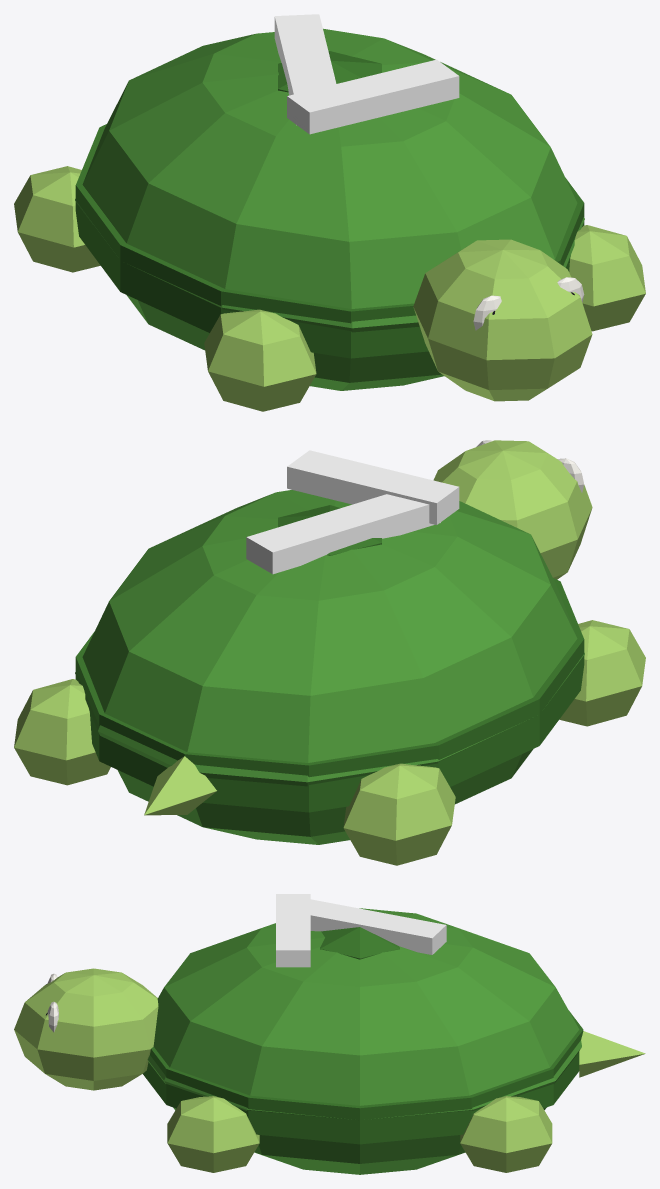
File: turtle_racer.glb
3 renders of one model, top to bottom at view 1: azimuth 30°, elevation 25°; view 2: azimuth 150°, elevation 25°; view 3: azimuth 270°, elevation 25°, orthographic. The views are drawn at different scales.
Parts seen in each view (by area): view 1: shell_turtle_shell, head_turtle_skin, legs_turtle_skin, shell_turtle_plate, number_turtle_paint, face_white; view 2: shell_turtle_shell, legs_turtle_skin, shell_turtle_plate, number_turtle_paint, head_turtle_skin, tail_turtle_skin; view 3: shell_turtle_shell, shell_turtle_plate, head_turtle_skin, legs_turtle_skin, number_turtle_paint, tail_turtle_skin.
Boxes of the visible parts, x1,y1,x2,y2 form: shell_turtle_shell: (75, 28, 584, 390); head_turtle_skin: (413, 239, 592, 401); legs_turtle_skin: (14, 166, 645, 411); shell_turtle_plate: (75, 51, 584, 358); number_turtle_paint: (274, 14, 459, 134); face_white: (473, 277, 584, 330); shell_turtle_shell: (75, 490, 584, 844); legs_turtle_skin: (14, 620, 645, 865); shell_turtle_plate: (75, 505, 584, 812); number_turtle_paint: (246, 450, 459, 574); head_turtle_skin: (433, 440, 592, 579); tail_turtle_skin: (144, 756, 216, 815); shell_turtle_shell: (147, 908, 581, 1174); shell_turtle_plate: (143, 927, 583, 1144); head_turtle_skin: (14, 968, 158, 1090); legs_turtle_skin: (167, 1096, 552, 1172); number_turtle_paint: (276, 894, 446, 967); tail_turtle_skin: (579, 1031, 645, 1077).
Bounding box in the file's own units: 0.29 × 0.189 × 0.475.
